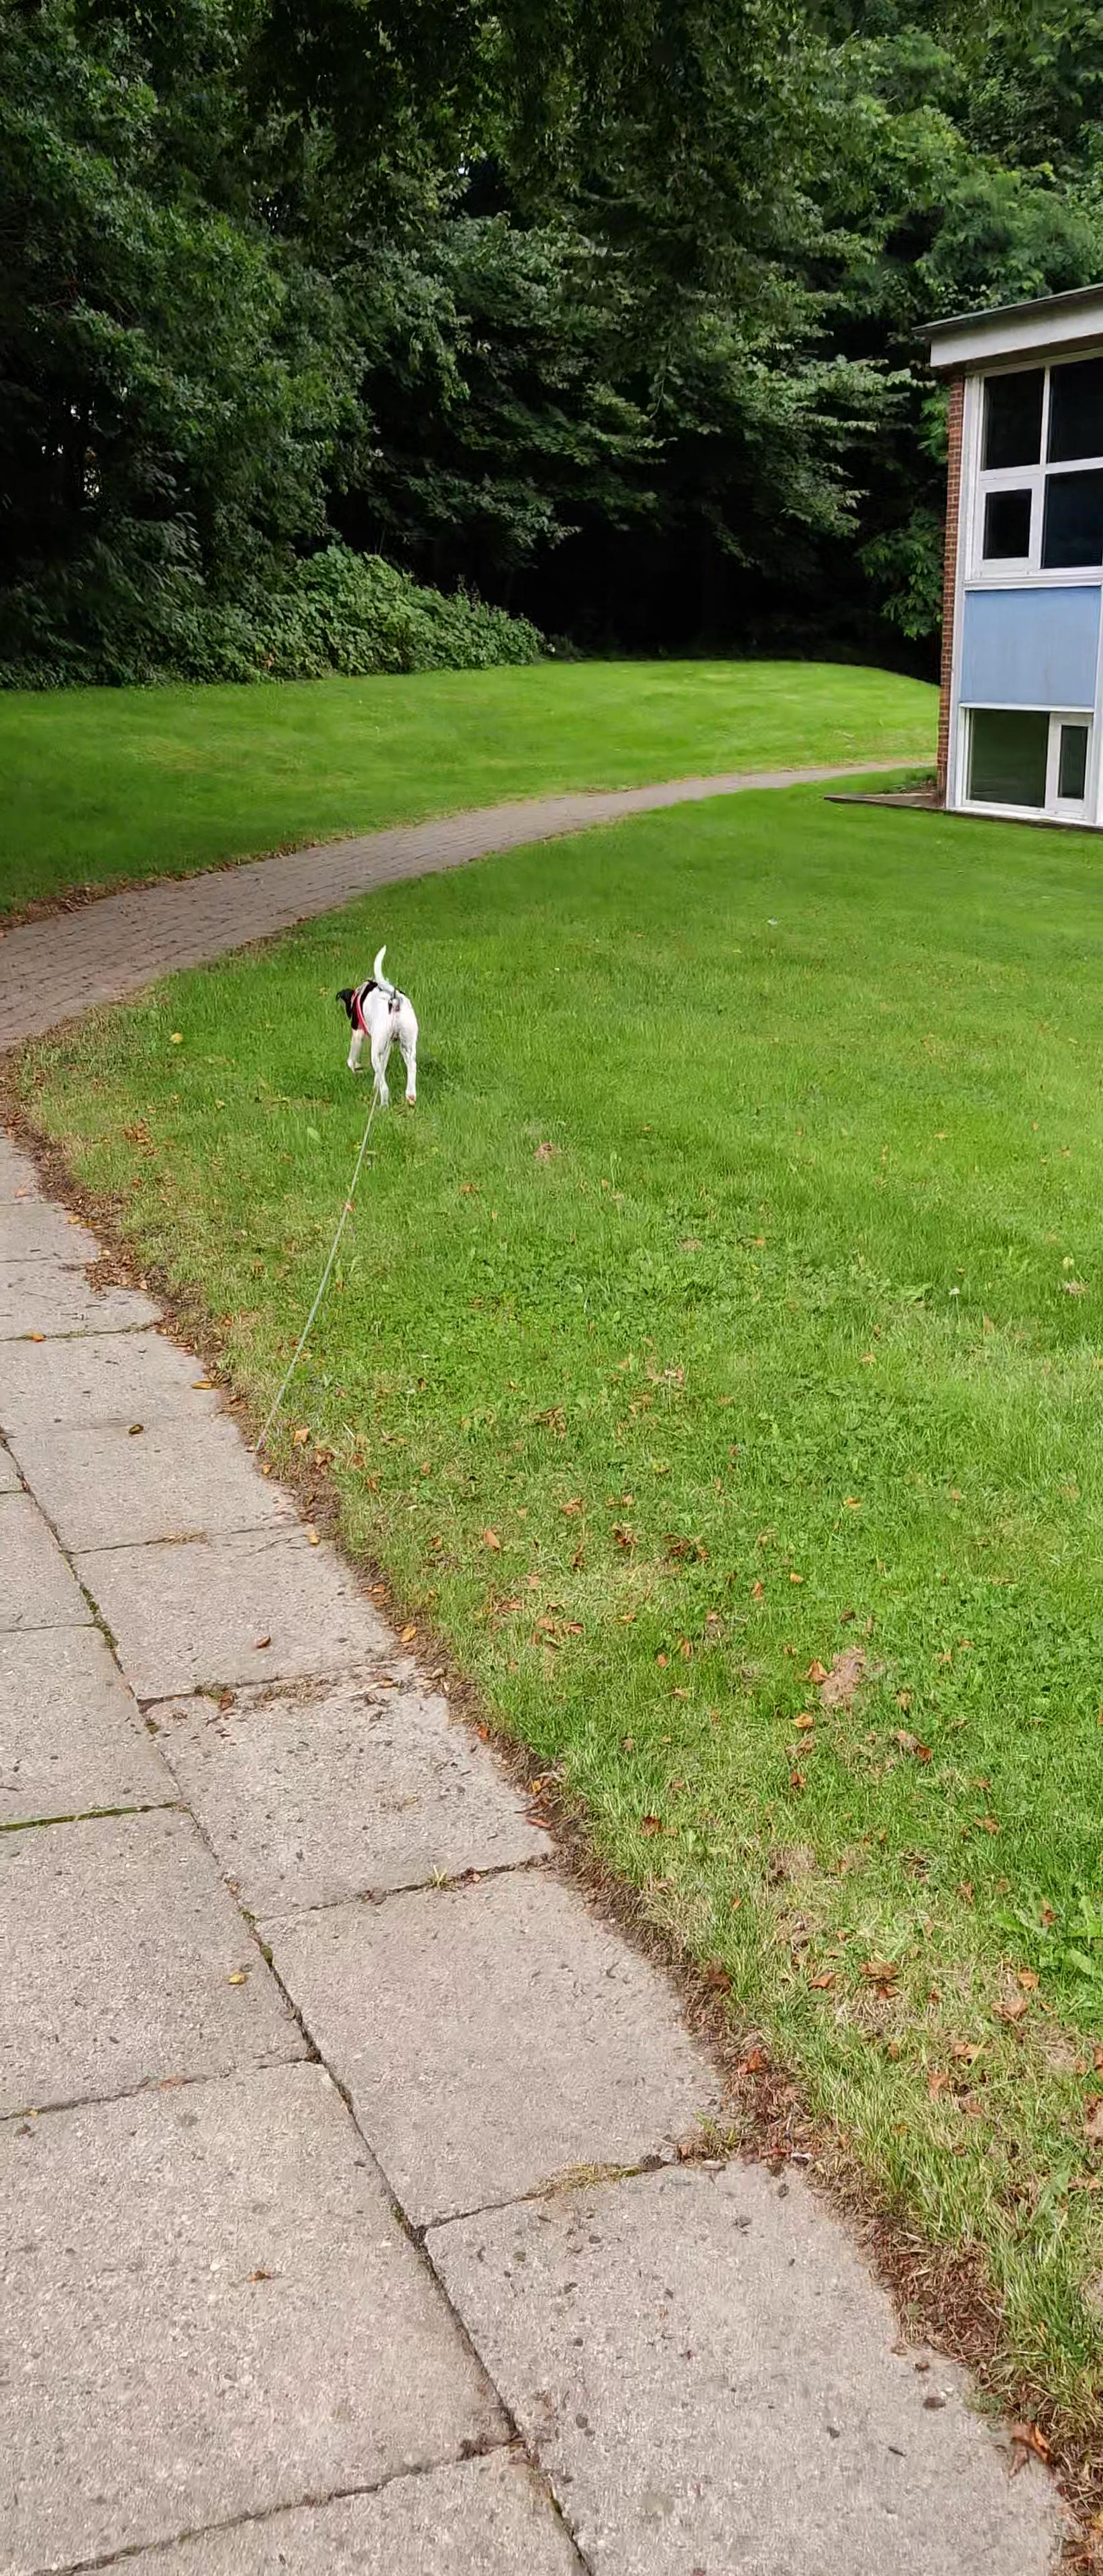Dog: (329, 941, 424, 1114)
